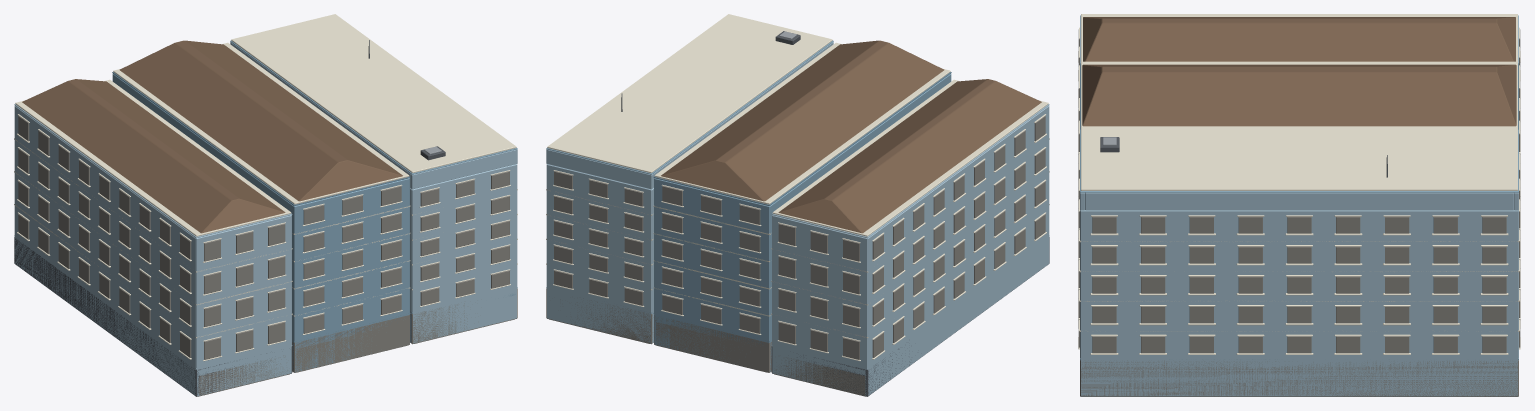
File: VG_Bld_Commercial_12.fbx
3 renders of one model, left to right at view 1: azimuth 30°, elevation 25°; view 2: azimuth 150°, elevation 25°; view 3: azimuth 270°, elevation 25°, orthographic. The views are drawn at different scales.
Parts seen in each view (by area): view 1: VG_Bld_Commercial_12_Body; view 2: VG_Bld_Commercial_12_Body; view 3: VG_Bld_Commercial_12_Body.
Boxes of the visible parts, x1,y1,x2,y2 form: VG_Bld_Commercial_12_Body: [14, 14, 517, 396]; VG_Bld_Commercial_12_Body: [546, 14, 1049, 396]; VG_Bld_Commercial_12_Body: [1078, 14, 1520, 396].
Bounding box in the file's own units: 44 × 24.72 × 43.
